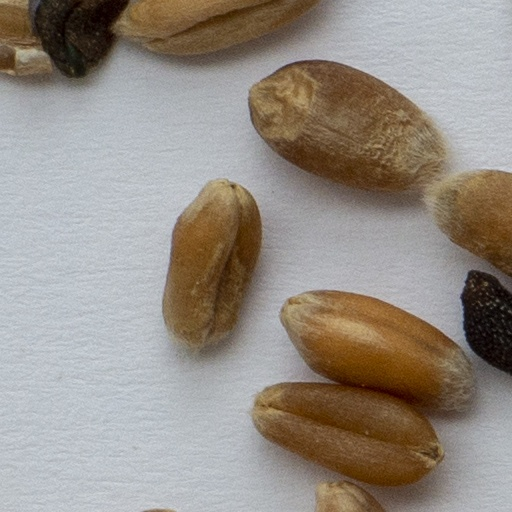Convolvulus-poly: (458, 266, 511, 378)
